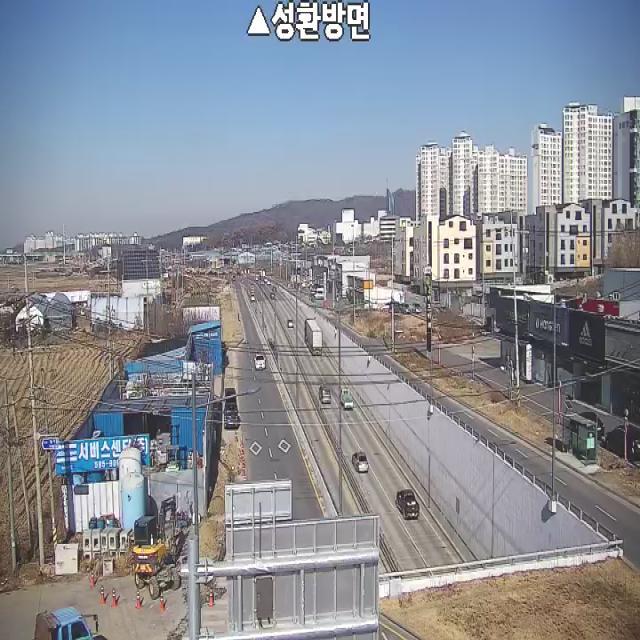Car: (605, 424, 640, 460), (573, 411, 604, 441), (396, 488, 420, 518), (352, 451, 369, 473), (319, 386, 332, 404), (254, 355, 266, 370), (288, 320, 293, 328)
Truck: (127, 489, 185, 605), (34, 607, 99, 640), (305, 318, 322, 356), (223, 388, 237, 428), (341, 388, 354, 410)
